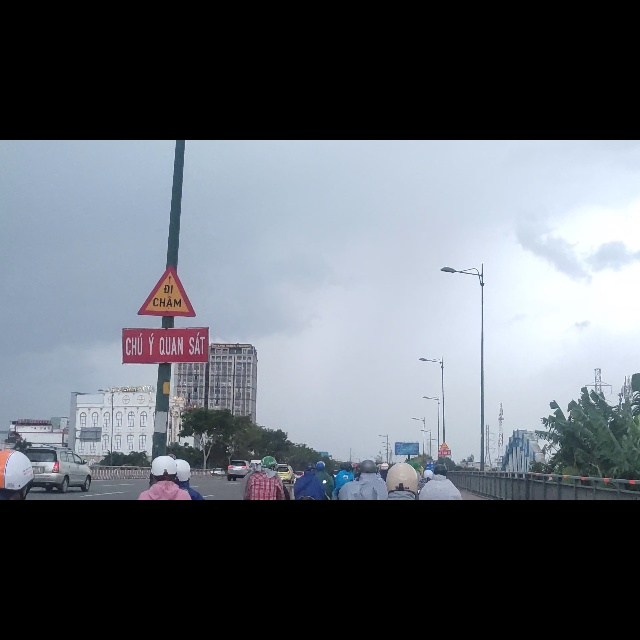bien_nguy_hiem: (137, 220, 196, 315)
